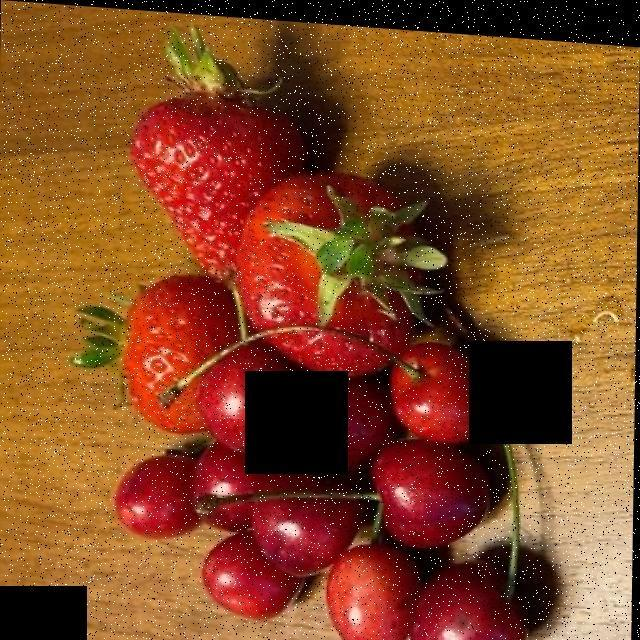cherries: (111, 341, 530, 640)
strawberries: (117, 92, 417, 430)
